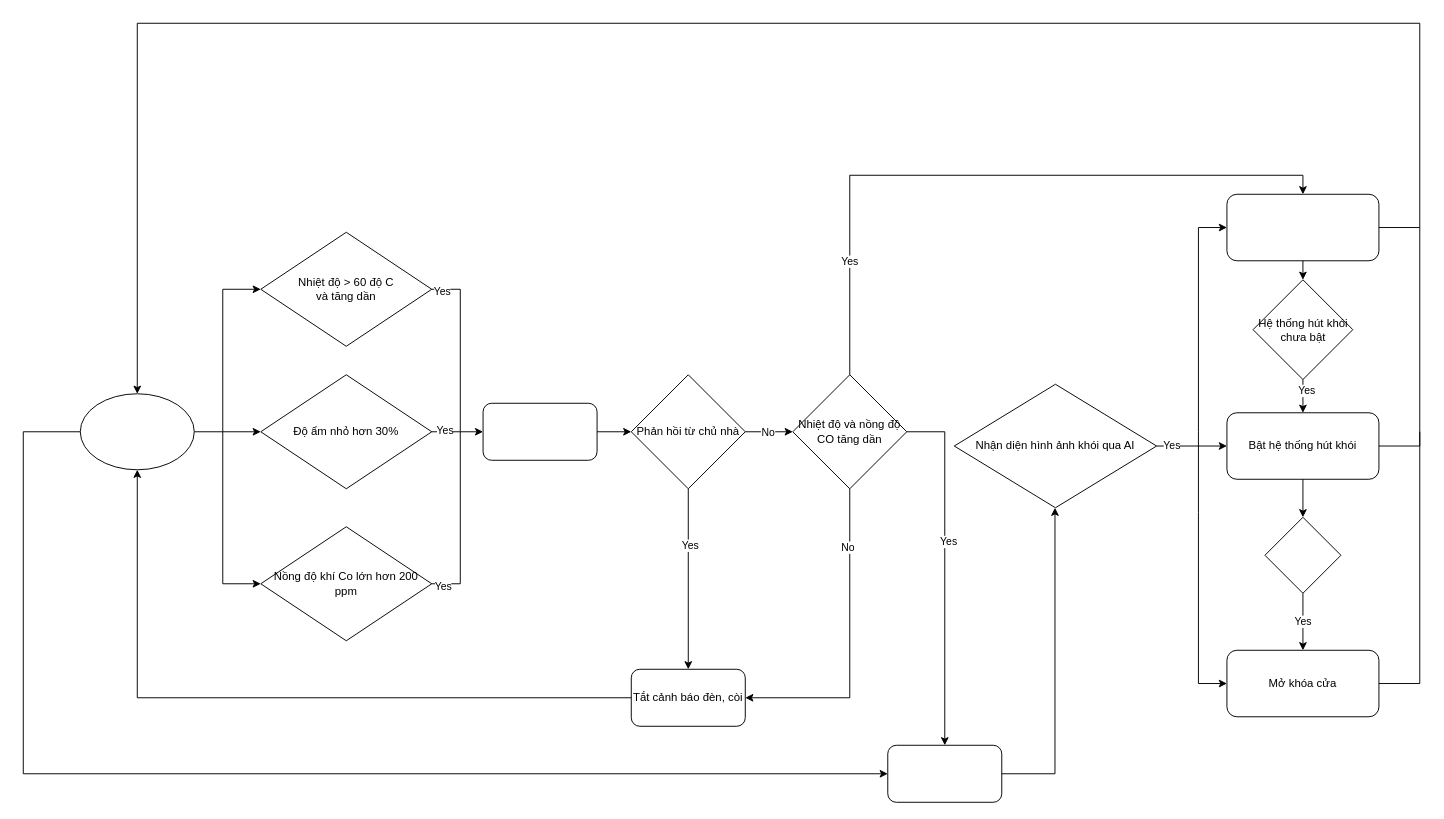
The diagram is 1444 pixels wide and 819 high, and some of its shapes have lost their labels. Here are the shapes that lost their labels. From the top down, the centre of each, then its label:
point 1302,227: Cảnh báo trên app
point 136,431: Bắt đầu
point 539,431: cảnh báo đèn
point 1302,554: Cửa chưa mở
point 944,773: Thu thập hình ảnh từ camera
